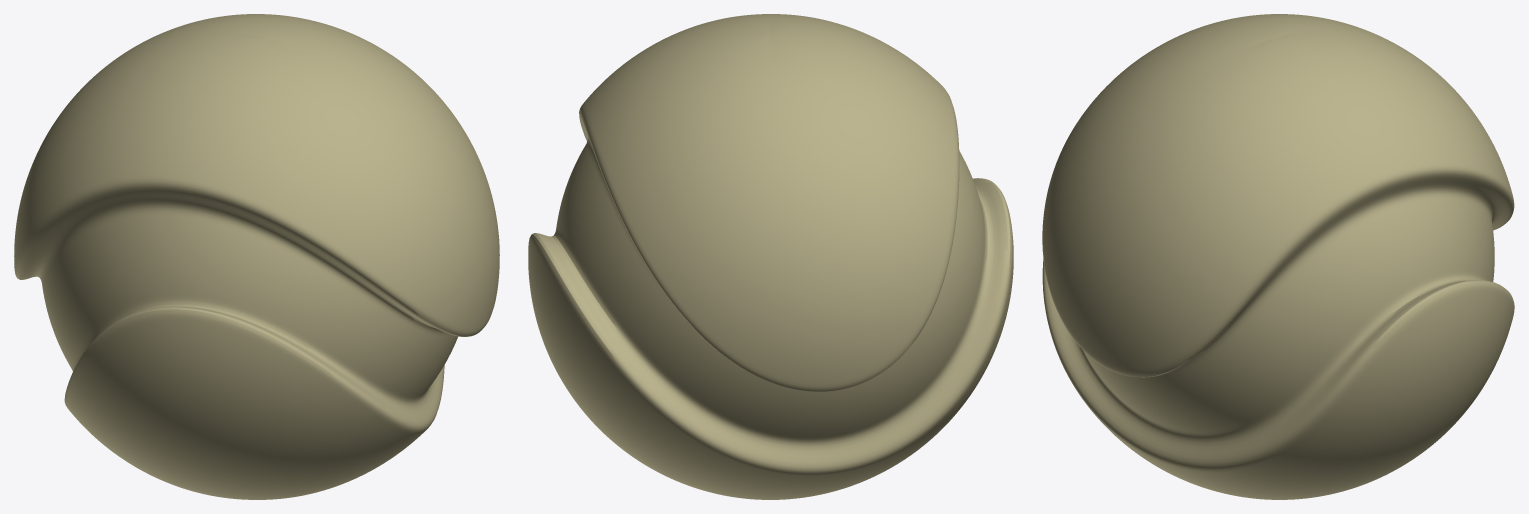
3 views of the same model, side by side, from view 1: azimuth 30°, elevation 25°; view 2: azimuth 150°, elevation 25°; view 3: azimuth 270°, elevation 25° (orthographic).
Visible parts, largest first — view 1: Shape_09; view 2: Shape_09; view 3: Shape_09.
Part boxes in pixels (x1,y1,x2,y2): Shape_09: (14,14,499,499); Shape_09: (528,14,1013,499); Shape_09: (1042,14,1514,499).
Bounding box in the file's own units: 2.76 × 2.89 × 2.8.
